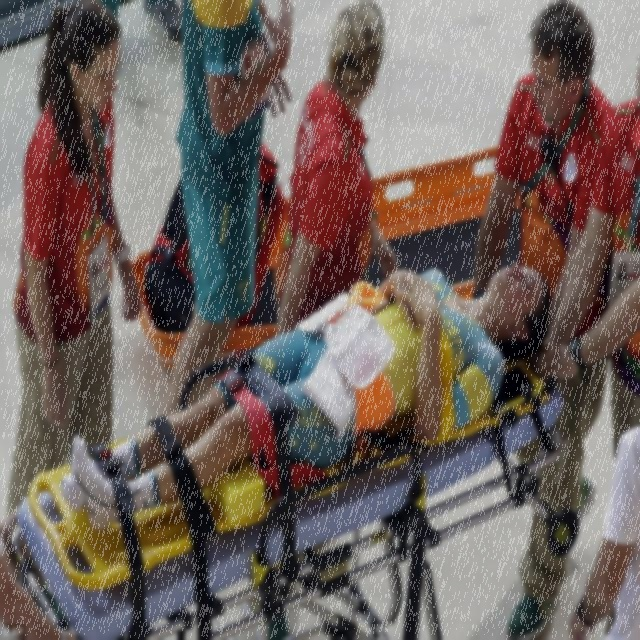pessoa: (29, 237, 556, 538), (467, 0, 628, 639), (3, 0, 145, 523), (162, 0, 298, 421), (532, 48, 640, 466), (274, 0, 402, 339), (568, 426, 639, 640), (3, 532, 96, 635)
